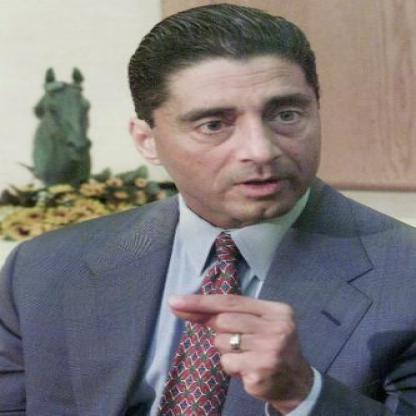face: (151, 20, 327, 226)
